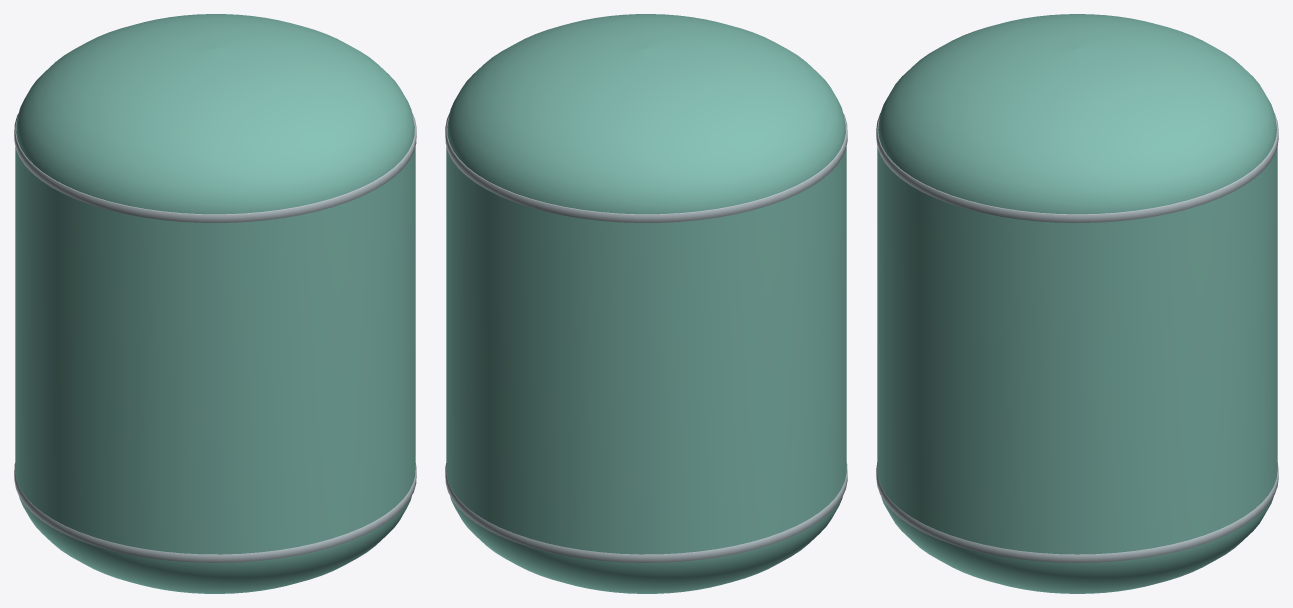
Rendered from s_ivb_lh2_vessel.glb.
3 renders of one model, left to right at view 1: azimuth 30°, elevation 25°; view 2: azimuth 150°, elevation 25°; view 3: azimuth 270°, elevation 25°, orthographic.
Parts seen in each view (by area): view 1: s_ivbcutawaylh2_tankmesh.mesh_Cutaway_•_liquid_hydrogen, s_ivbcutawaylh2_tankmesh.mesh_Satin_aluminum; view 2: s_ivbcutawaylh2_tankmesh.mesh_Cutaway_•_liquid_hydrogen, s_ivbcutawaylh2_tankmesh.mesh_Satin_aluminum; view 3: s_ivbcutawaylh2_tankmesh.mesh_Cutaway_•_liquid_hydrogen, s_ivbcutawaylh2_tankmesh.mesh_Satin_aluminum.
Boxes of the visible parts, box(x1,y1,x2,y2) form: s_ivbcutawaylh2_tankmesh.mesh_Cutaway_•_liquid_hydrogen: box(15, 14, 415, 593); s_ivbcutawaylh2_tankmesh.mesh_Satin_aluminum: box(14, 112, 416, 562); s_ivbcutawaylh2_tankmesh.mesh_Cutaway_•_liquid_hydrogen: box(446, 14, 846, 593); s_ivbcutawaylh2_tankmesh.mesh_Satin_aluminum: box(445, 112, 847, 562); s_ivbcutawaylh2_tankmesh.mesh_Cutaway_•_liquid_hydrogen: box(877, 14, 1277, 593); s_ivbcutawaylh2_tankmesh.mesh_Satin_aluminum: box(876, 113, 1278, 562).
Size of the model in its own units: 5.95 by 8.32 by 5.95.
